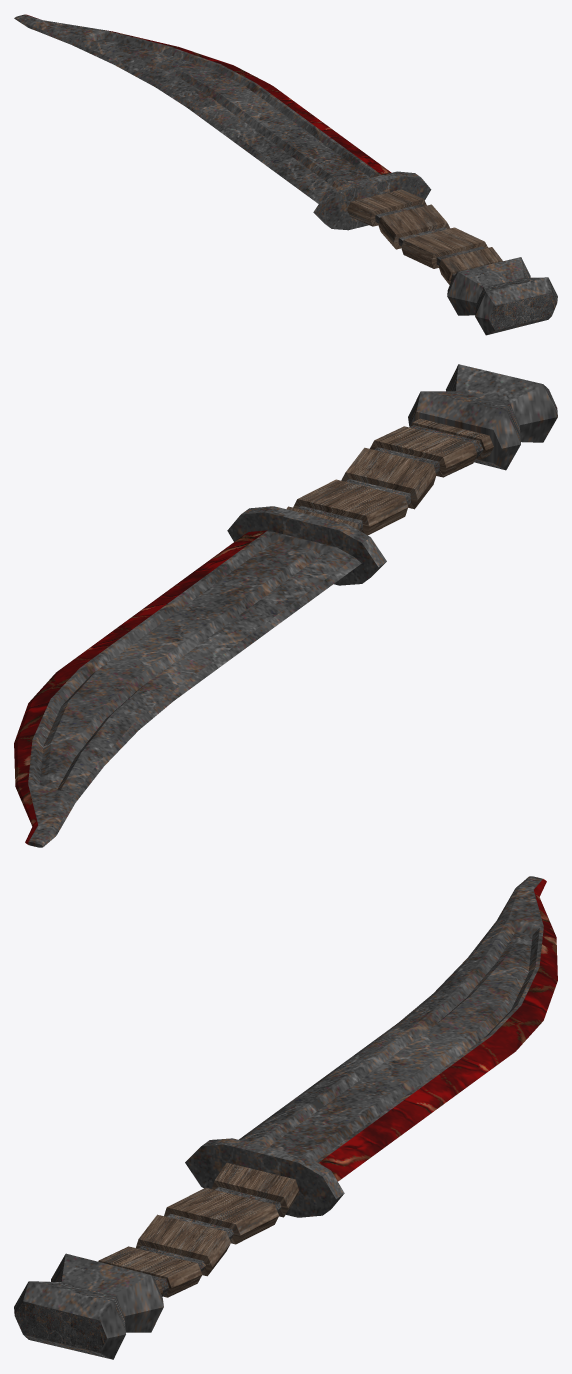
File: Knife.glb
3 renders of one model, top to bottom at view 1: azimuth 30°, elevation 25°; view 2: azimuth 150°, elevation 25°; view 3: azimuth 330°, elevation 25°, orthographic. The views are drawn at different scales.
Parts seen in each view (by area): view 1: Knife; view 2: Knife; view 3: Knife.
Boxes of the visible parts, x1,y1,x2,y2 form: Knife: [14, 14, 557, 335]; Knife: [14, 364, 557, 847]; Knife: [14, 876, 557, 1359].
Size of the model in its own units: 0.0465 by 0.0141 by 0.2499.
Materials: 3 (3 with a texture image).
